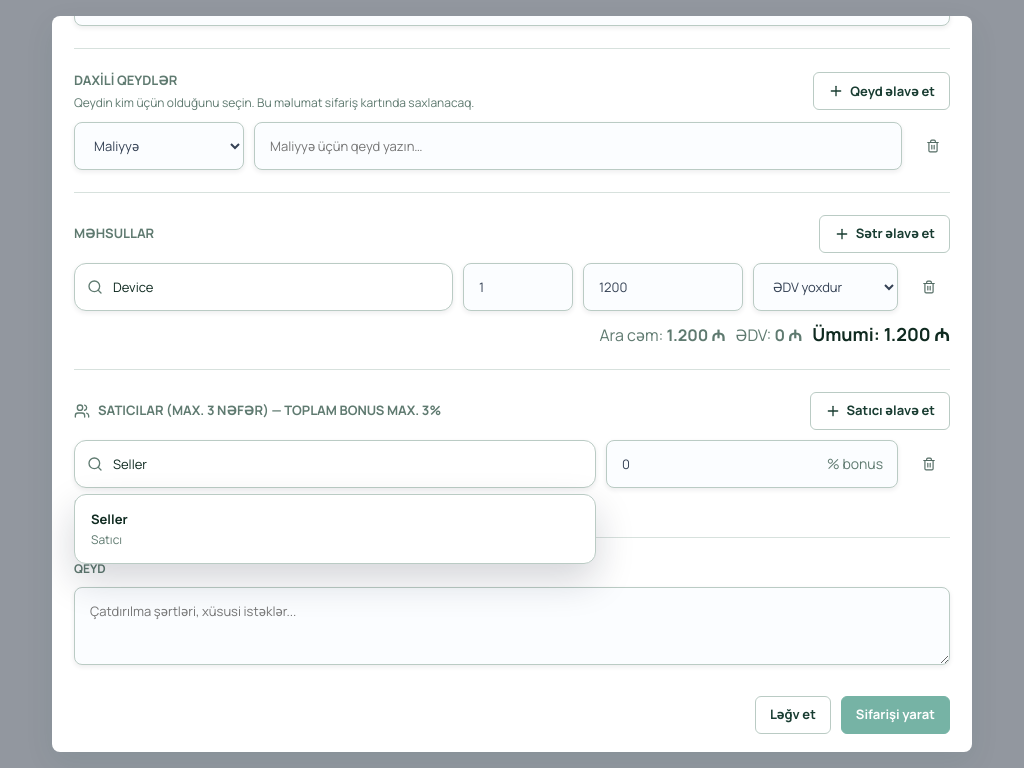
it: server-confirmed sales submission › keeps entered data and permits retry after a server error
The width and height of the screenshot is (1024, 768).
Earlier steps of the test are not shown.
Later steps or results of the test are not shown.
(page scrolled)
Click the option "Seller Satıcı" at point(109, 519), box [81, 501, 589, 557]
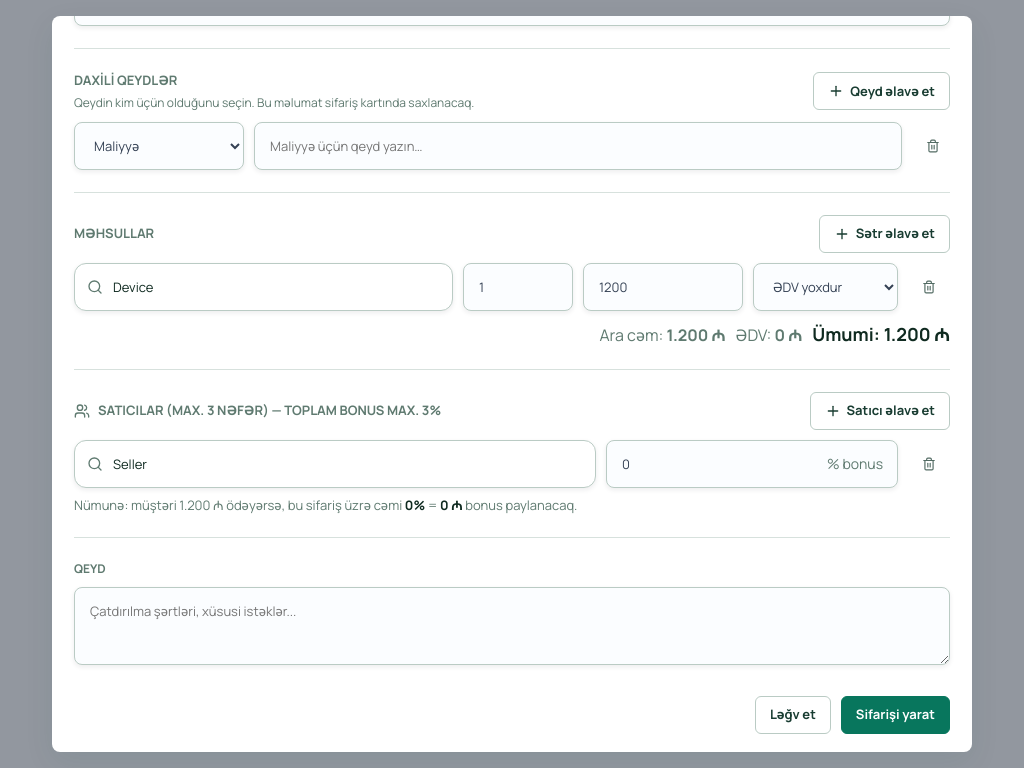
Click the button "Sifarişi yarat" at point(895, 715), box [841, 696, 950, 734]
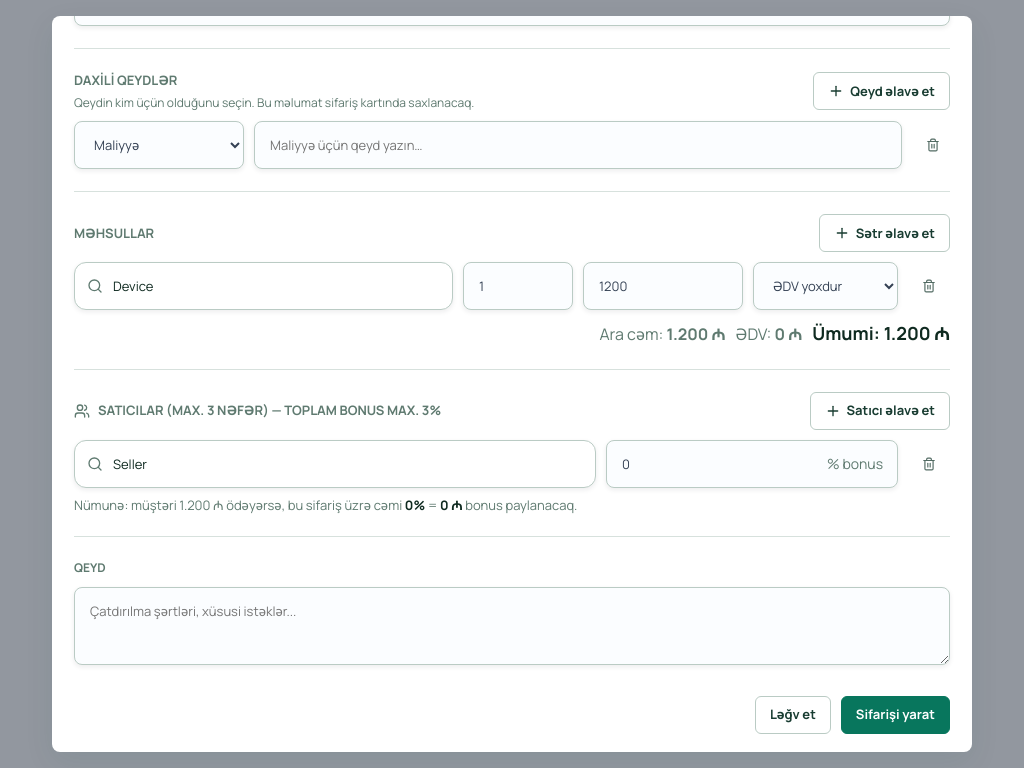
expect the button "Sifarişi yarat" is enabled: met, box [841, 696, 950, 734]
